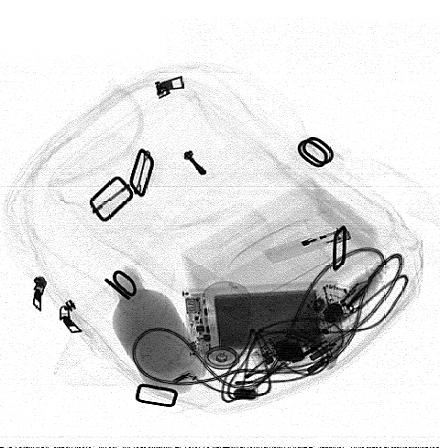Lighter: (260, 224, 354, 265)
Powerbank: (184, 282, 343, 357)
Sprayer: (196, 281, 252, 374)
